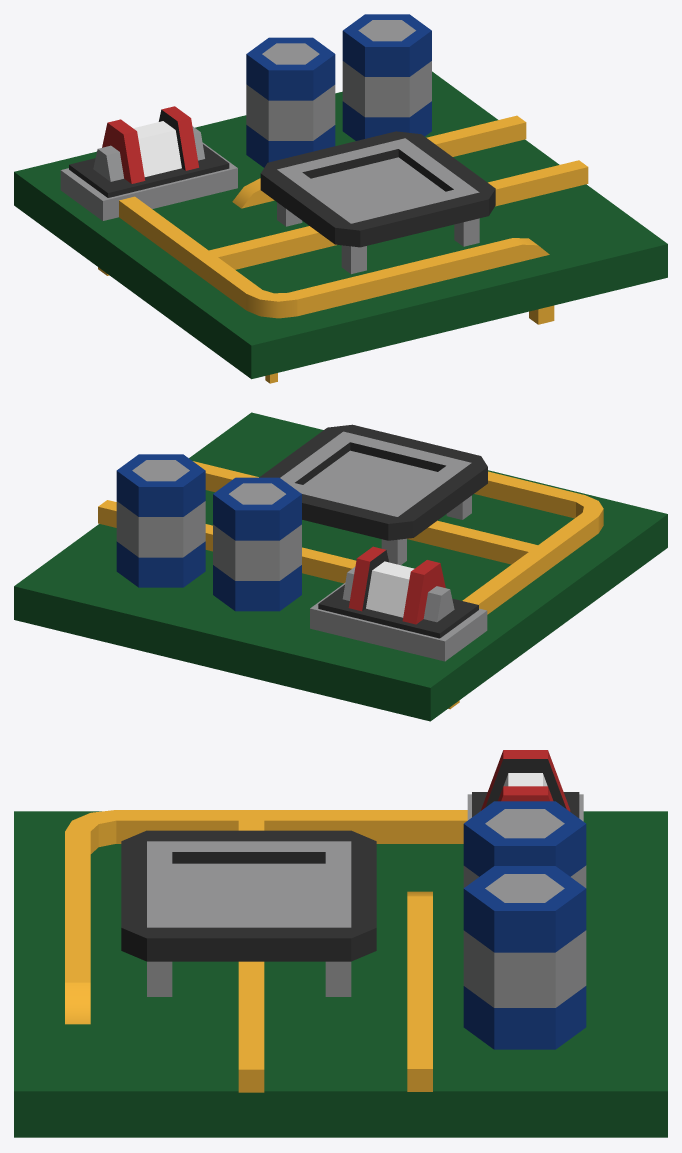
Rendered from PCB.fbx.
3 renders of one model, top to bottom at view 1: azimuth 30°, elevation 25°; view 2: azimuth 150°, elevation 25°; view 3: azimuth 270°, elevation 25°, orthographic. The views are drawn at different scales.
Visible parts, largest first — view 1: block, barrel (×2), platform_low, rail_corner, machine_generatorLarge, rail_middle, rail_end; view 2: block, barrel (×2), platform_low, machine_generatorLarge, rail_corner, rail_middle, rail_end; view 3: block, platform_low, barrel (×2), rail_corner, rail_end, machine_generatorLarge, rail_middle.
Part boxes in pixels (left/top/right/bottom): block: left=14, top=71, right=667, bottom=379; barrel (×2): left=246, top=14, right=431, bottom=167; platform_low: left=260, top=131, right=495, bottom=274; rail_corner: left=98, top=196, right=554, bottom=383; machine_generatorLarge: left=60, top=106, right=237, bottom=220; rail_middle: left=206, top=160, right=588, bottom=269; rail_end: left=232, top=115, right=526, bottom=208; block: left=14, top=412, right=667, bottom=721; barrel (×2): left=116, top=454, right=301, bottom=611; platform_low: left=259, top=424, right=487, bottom=565; machine_generatorLarge: left=310, top=546, right=487, bottom=661; rail_corner: left=448, top=471, right=603, bottom=709; rail_middle: left=193, top=461, right=541, bottom=564; rail_end: left=98, top=500, right=356, bottom=583; block: left=14, top=811, right=667, bottom=1137; platform_low: left=121, top=830, right=376, bottom=996; barrel (×2): left=463, top=801, right=586, bottom=1049; rail_corner: left=65, top=810, right=467, bottom=1024; rail_end: left=407, top=891, right=432, bottom=1091; machine_generatorLarge: left=467, top=750, right=583, bottom=821; rail_middle: left=238, top=818, right=264, bottom=1092.
Size of the model in its own units: 6.51 by 2.5 by 6.4.
